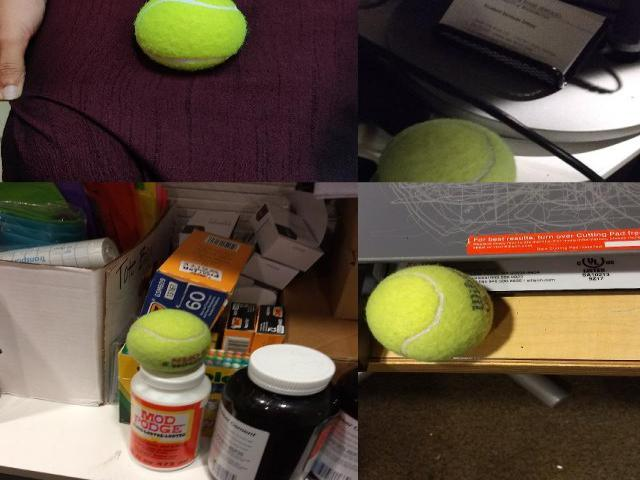tennis-ball: (365, 264, 495, 362), (376, 118, 517, 182), (134, 0, 246, 70), (125, 308, 212, 372)
